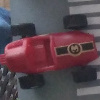carro: (1, 15, 100, 89)
